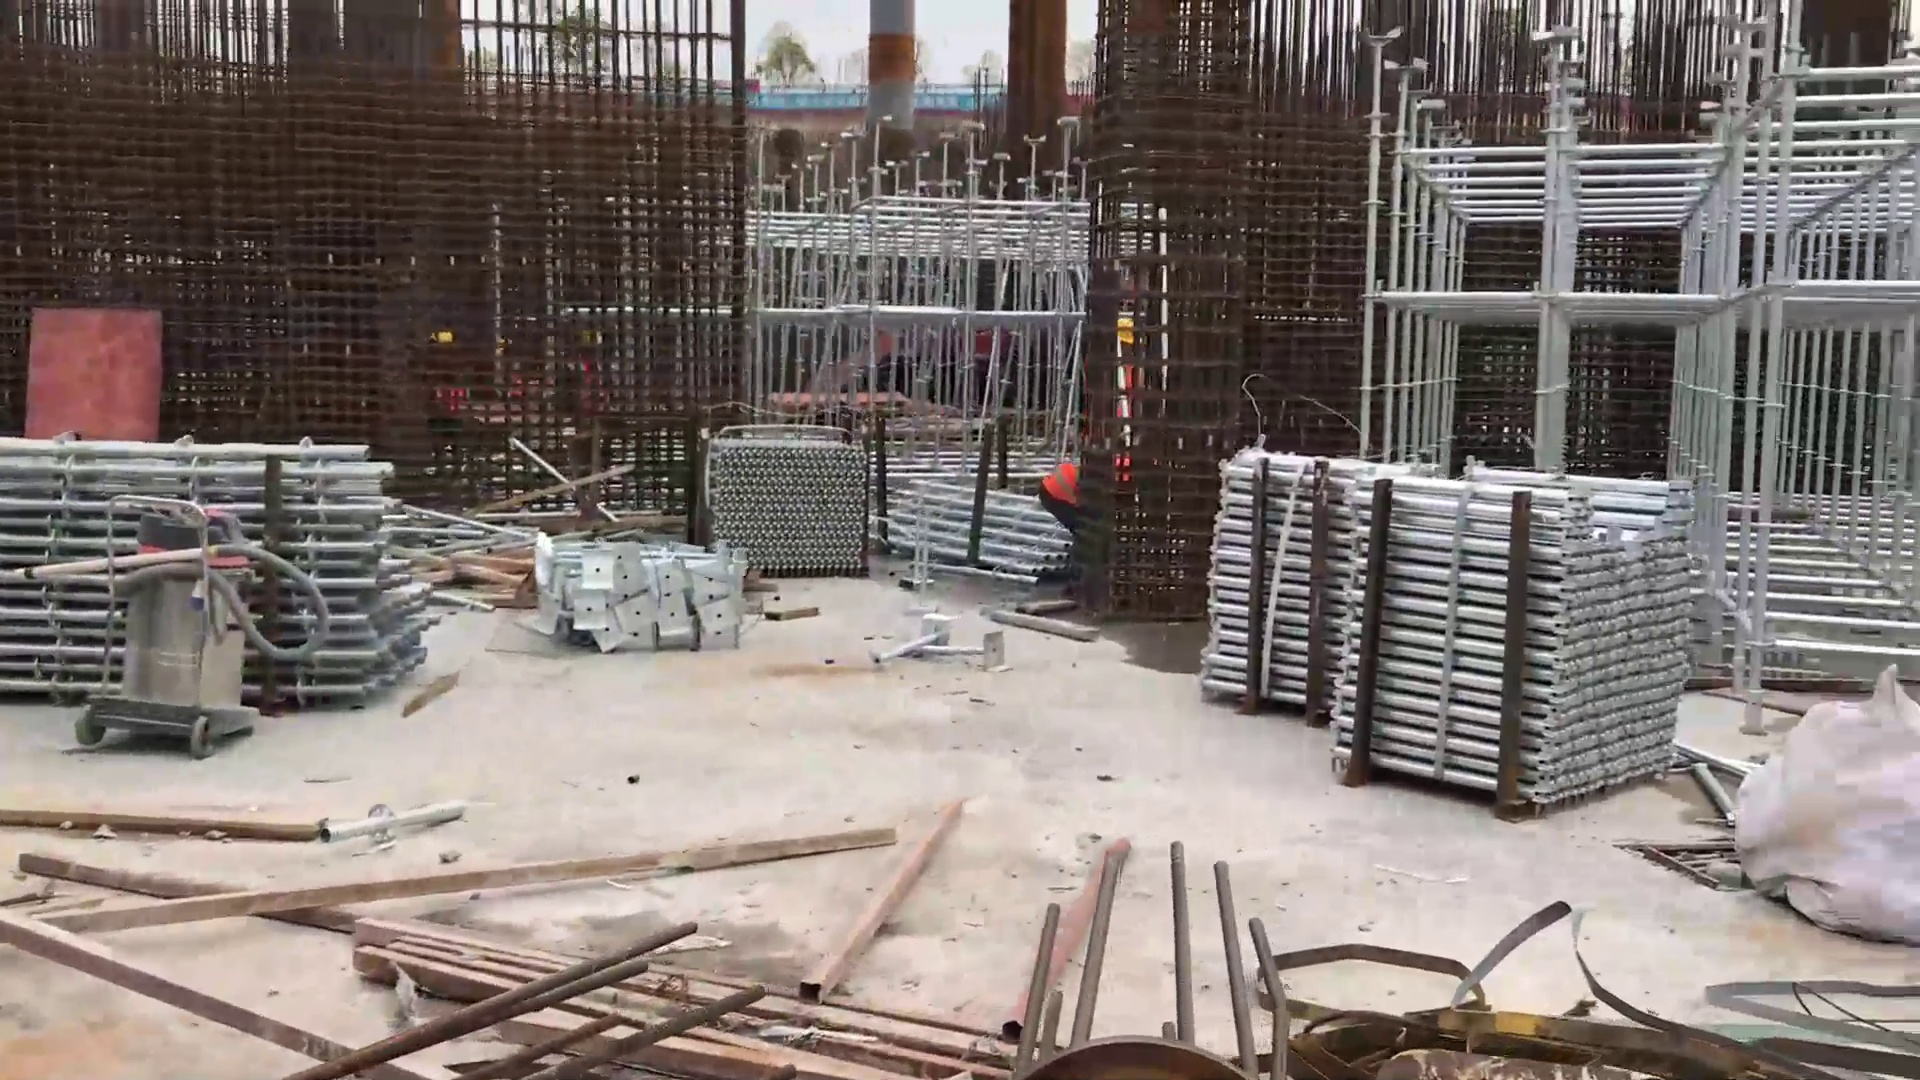board: (15, 295, 175, 446)
person: (1035, 441, 1140, 540)
scaffold: (1196, 434, 1691, 809), (1, 422, 442, 726), (702, 432, 871, 591)
vest: (1042, 459, 1125, 511)
